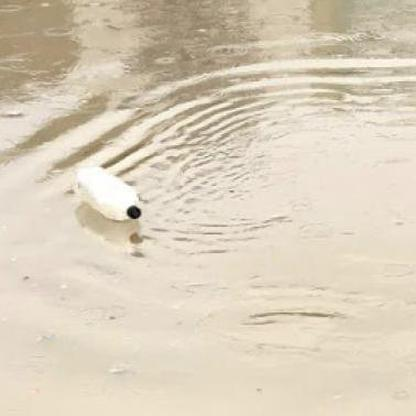plastic bottle: (74, 166, 142, 221)
